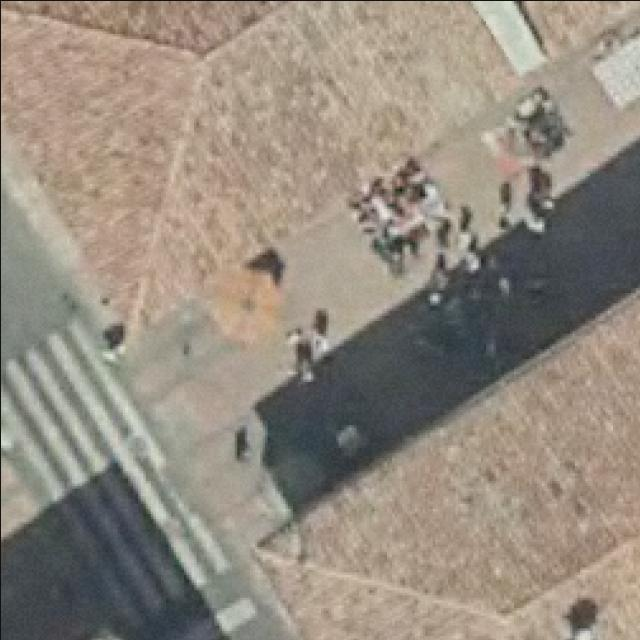vendedor_ambulante: (201, 264, 287, 348)
